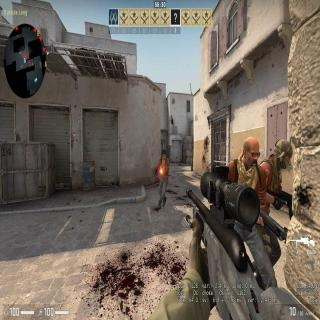T-Body: (225, 136, 268, 226), (261, 137, 298, 235), (156, 149, 171, 209)
T-Head: (272, 137, 294, 170), (239, 137, 262, 163), (161, 149, 166, 159)
